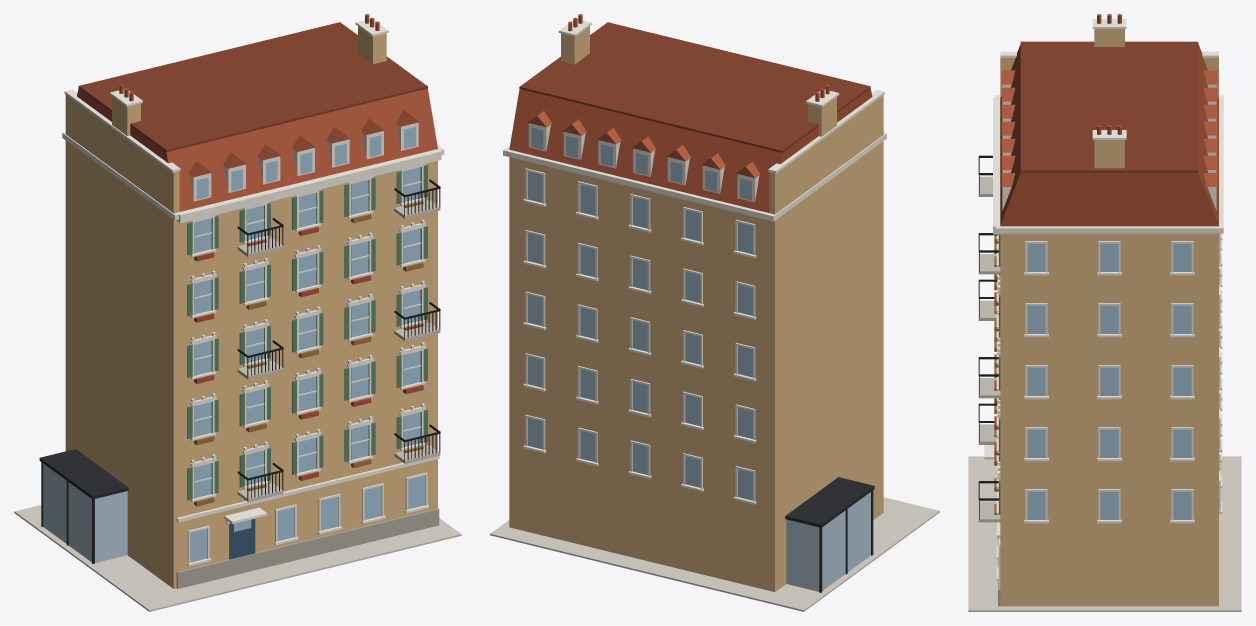
Rendered from Konut_ref_faubourg_Hafif.fbx.
3 renders of one model, left to right at view 1: azimuth 30°, elevation 25°; view 2: azimuth 150°, elevation 25°; view 3: azimuth 270°, elevation 25°, orthographic.
Parts seen in each view (by area): view 1: Konut_ref_faubourg_Hafif; view 2: Konut_ref_faubourg_Hafif; view 3: Konut_ref_faubourg_Hafif.
Boxes of the visible parts, x1,y1,x2,y2 form: Konut_ref_faubourg_Hafif: (14,14,461,611); Konut_ref_faubourg_Hafif: (490,14,939,611); Konut_ref_faubourg_Hafif: (968,14,1241,611).
Size of the model in its own units: 16 by 23.06 by 12.
